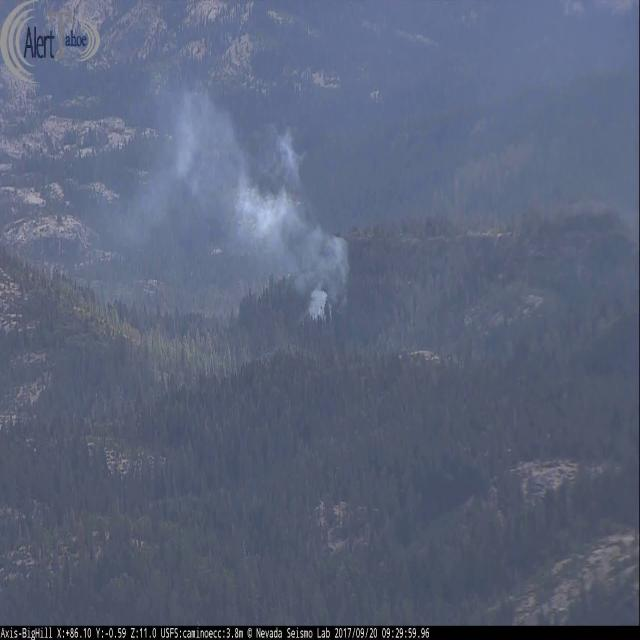smoke: (97, 66, 352, 320)
